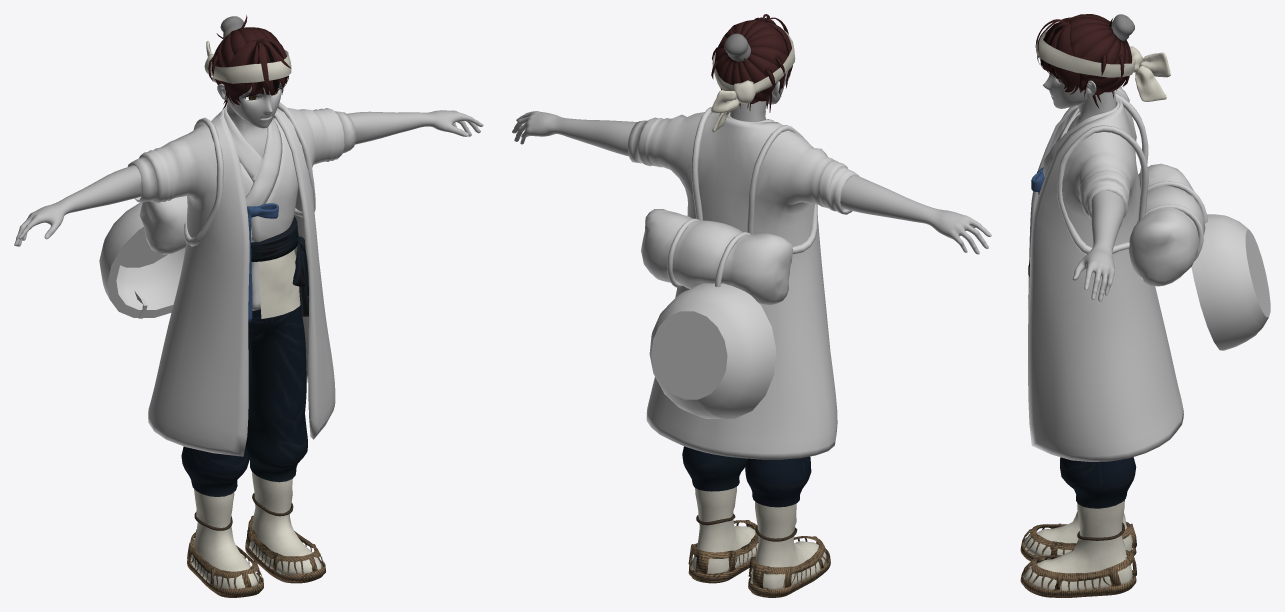
The model's file is dooyoung_v2.fbx.
3 renders of one model, left to right at view 1: azimuth 30°, elevation 25°; view 2: azimuth 150°, elevation 25°; view 3: azimuth 270°, elevation 25°, orthographic. The views are drawn at different scales.
Visible parts, largest first — view 1: robe_low, pants_low, woven_low, arm_low, socks_low, socks_low001, hair, top_low, top2_low, bundle_low, fronttop_low, shoes_low (+7 smaller); view 2: robe_low, woven_low, bundle_low, arm_low, pants_low, hair, socks_low001, socks_low, bagrope_low, shoes_low001, Bandana_low, shoes_low (+1 smaller); view 3: robe_low, woven_low, bundle_low, hair, socks_low, arm_low, Bandana_low, pants_low, bagrope_low, shoes_low, socks_low001, shoes_low001 (+5 smaller).
Part boxes in pixels (x1=…): robe_low: x1=127, y1=104, x2=355, y2=456; pants_low: x1=181, y1=305, x2=307, y2=496; woven_low: x1=99, y1=202, x2=185, y2=318; arm_low: x1=14, y1=110, x2=483, y2=246; socks_low: x1=249, y1=472, x2=321, y2=575; socks_low001: x1=190, y1=489, x2=259, y2=589; hair: x1=208, y1=15, x2=291, y2=109; top_low: x1=240, y1=117, x2=298, y2=310; top2_low: x1=224, y1=107, x2=282, y2=206; bundle_low: x1=139, y1=196, x2=187, y2=254; fronttop_low: x1=258, y1=249, x2=300, y2=318; shoes_low: x1=245, y1=515, x2=325, y2=583; robe_low: x1=628, y1=112, x2=859, y2=459; woven_low: x1=649, y1=283, x2=776, y2=419; bundle_low: x1=641, y1=209, x2=792, y2=304; arm_low: x1=512, y1=111, x2=991, y2=254; pants_low: x1=682, y1=446, x2=811, y2=507; hair: x1=711, y1=14, x2=792, y2=112; socks_low001: x1=751, y1=501, x2=826, y2=589; socks_low: x1=691, y1=486, x2=758, y2=573; bagrope_low: x1=691, y1=107, x2=817, y2=254; shoes_low001: x1=748, y1=536, x2=830, y2=597; Bandana_low: x1=711, y1=29, x2=795, y2=132; shoes_low: x1=688, y1=520, x2=758, y2=583; robe_low: x1=1028, y1=87, x2=1183, y2=461; woven_low: x1=1191, y1=214, x2=1270, y2=350; bundle_low: x1=1128, y1=163, x2=1205, y2=286; hair: x1=1035, y1=14, x2=1131, y2=107; socks_low: x1=1024, y1=500, x2=1132, y2=591; arm_low: x1=1072, y1=86, x2=1125, y2=301; Bandana_low: x1=1036, y1=29, x2=1170, y2=101; pants_low: x1=1060, y1=457, x2=1136, y2=508; bagrope_low: x1=1057, y1=93, x2=1148, y2=254; shoes_low: x1=1020, y1=550, x2=1136, y2=597; socks_low001: x1=1024, y1=511, x2=1132, y2=558; shoes_low001: x1=1020, y1=522, x2=1136, y2=563.
Bounding box in the file's own units: 158 × 177 × 71.44.
